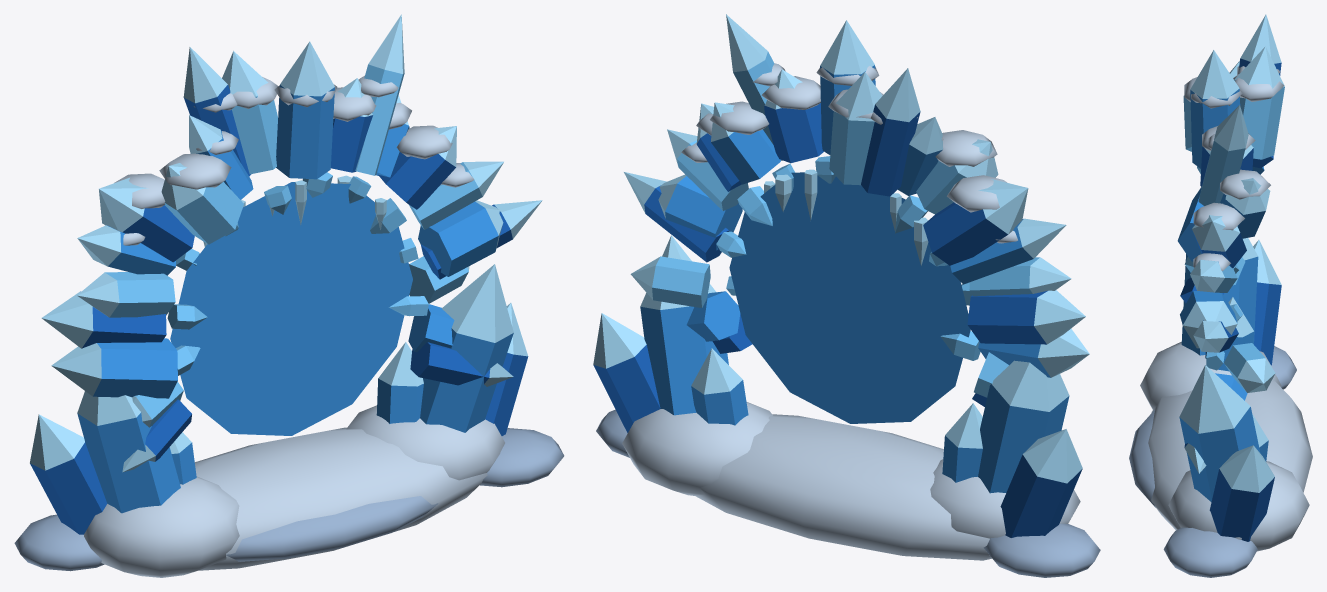
Rendered from PortalFrontier.fbx.
3 renders of one model, left to right at view 1: azimuth 30°, elevation 25°; view 2: azimuth 150°, elevation 25°; view 3: azimuth 270°, elevation 25°, orthographic. The views are drawn at different scales.
Visible parts, largest first — view 1: Frame, Opening; view 2: Frame, Opening; view 3: Frame.
Part boxes in pixels (left/top/right/bottom): Frame: left=14, top=14, right=564, bottom=577; Opening: left=170, top=182, right=412, bottom=435; Frame: left=593, top=14, right=1100, bottom=577; Opening: left=729, top=172, right=970, bottom=423; Frame: left=1129, top=14, right=1312, bottom=577.
Bounding box in the file's own units: 34 × 31.72 × 11.7.
1 material, 1 textured.
